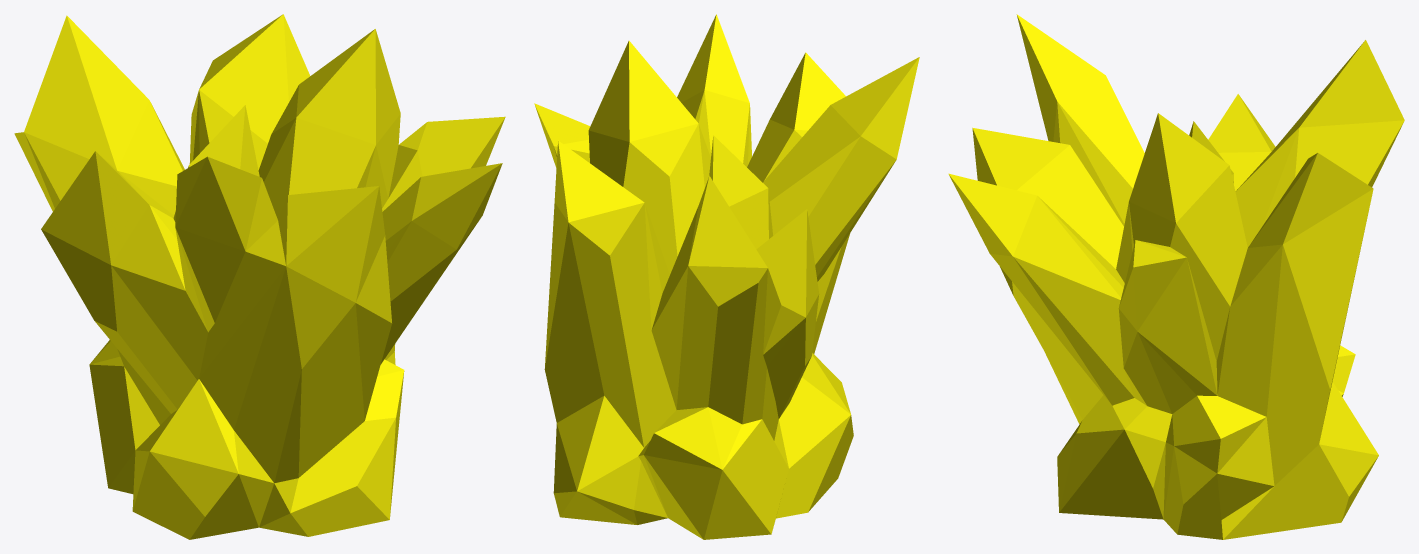
File: Crystal large.fbx
The picture shows the model from 3 angles, left to right: view 1: azimuth 30°, elevation 25°; view 2: azimuth 150°, elevation 25°; view 3: azimuth 270°, elevation 25°; orthographic projection. The views are drawn at different scales.
Parts seen in each view (by area): view 1: Large Crystal; view 2: Large Crystal; view 3: Large Crystal.
Part boxes in pixels (bbox=[...]): Large Crystal: bbox=[14, 14, 505, 539]; Large Crystal: bbox=[534, 14, 919, 539]; Large Crystal: bbox=[948, 14, 1404, 539].
Size of the model in its own units: 205 by 230 by 226.
